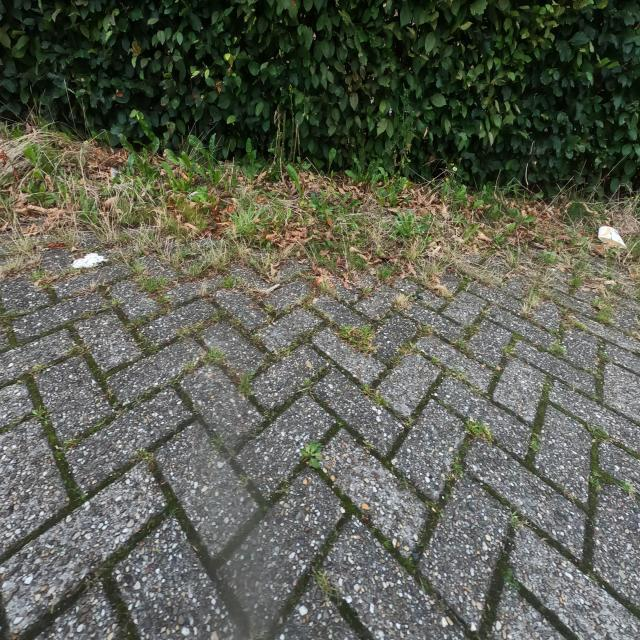Cup: (598, 226, 628, 250)
Paper: (72, 252, 110, 270)
